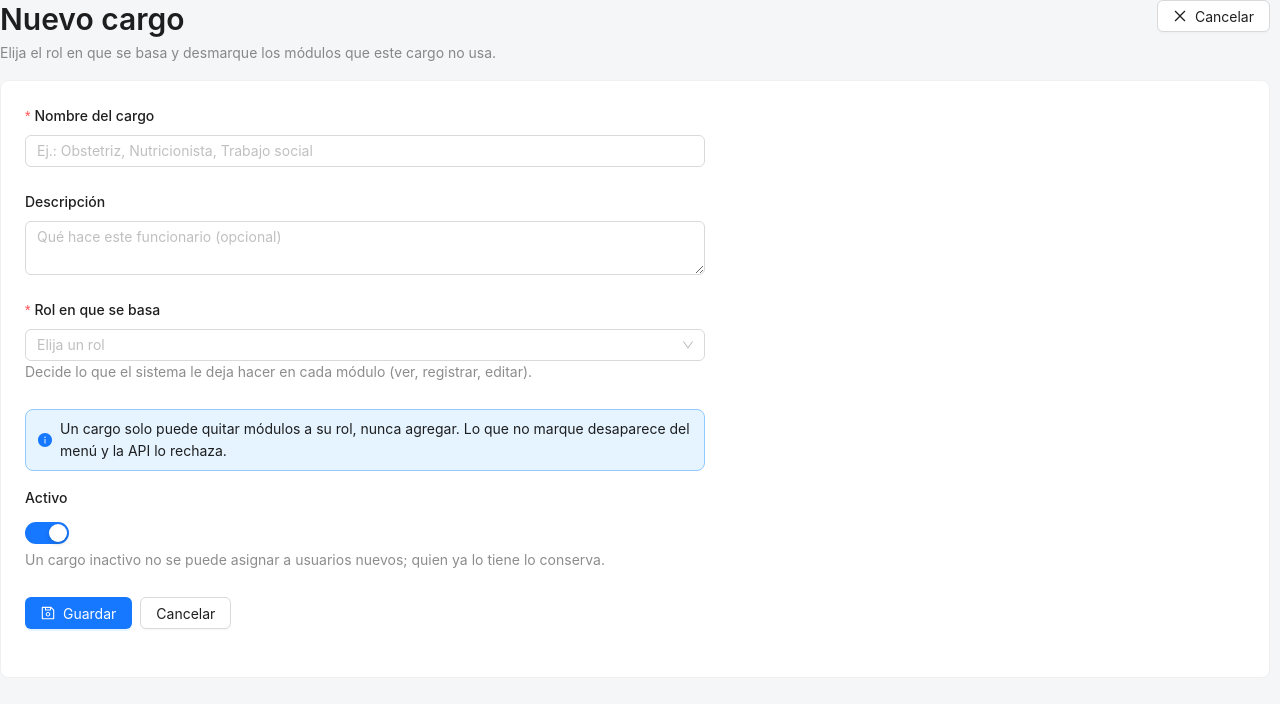
Test: FormularioRol (cargos) › ofrece solo los módulos del rol base y deja fijos los obligatorios
The image size is (1280, 704).
Click the dropdown labelled "Rol en que se basa" at (97, 310), box [34,301,160,318]
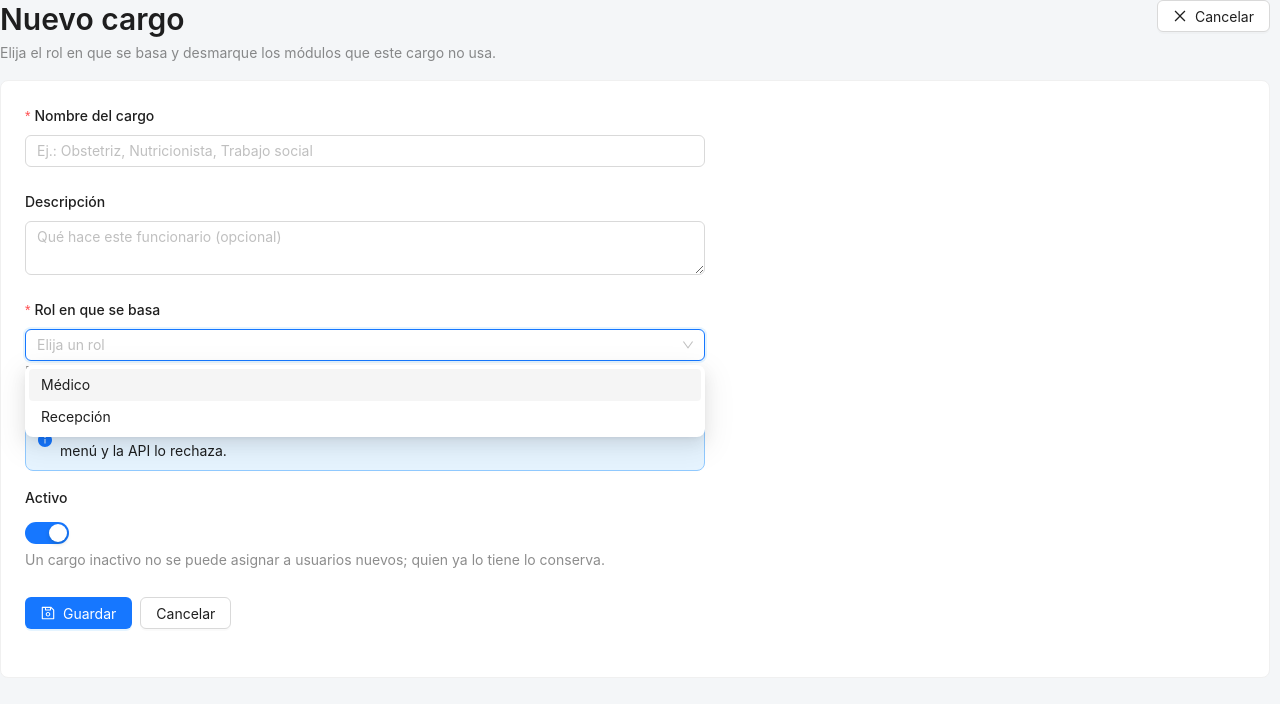
Click the element titled "Recepción" at (76, 416), box [41,408,111,425]
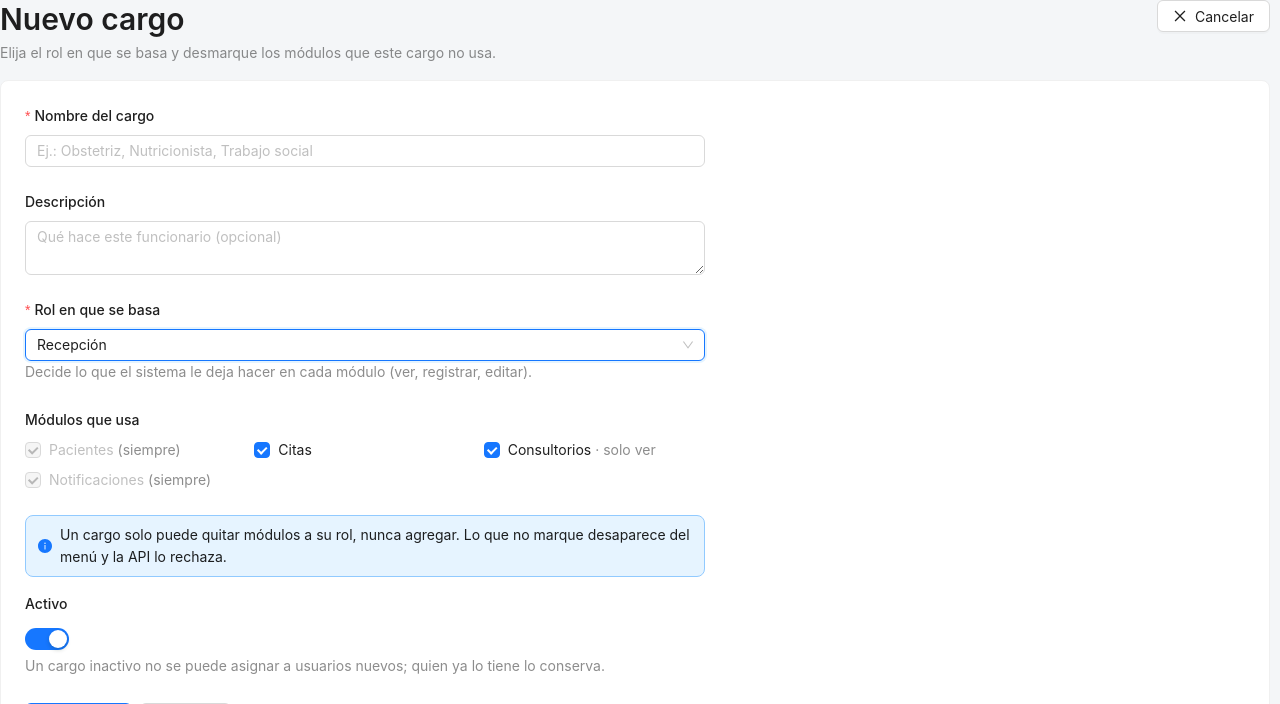
Result: the checkbox labelled "Citas" is checked at [254,441,312,458]
Result: the checkbox labelled "Pacientes (siempre)" is disabled at [25,441,181,458]
Result: the text "· solo ver" is shown at [591,441,656,458]
